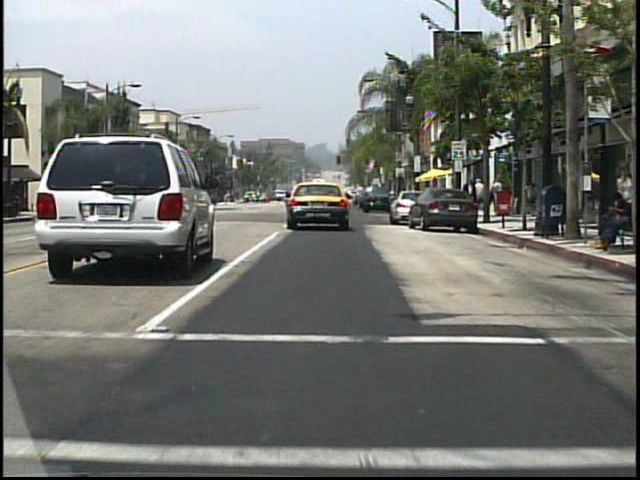person: (576, 195, 620, 252), (462, 177, 478, 219), (475, 179, 487, 216), (495, 182, 507, 217), (486, 184, 498, 216)
